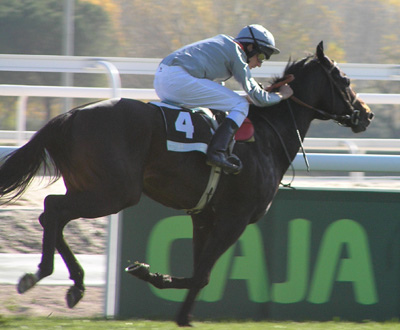person: (154, 24, 294, 175)
